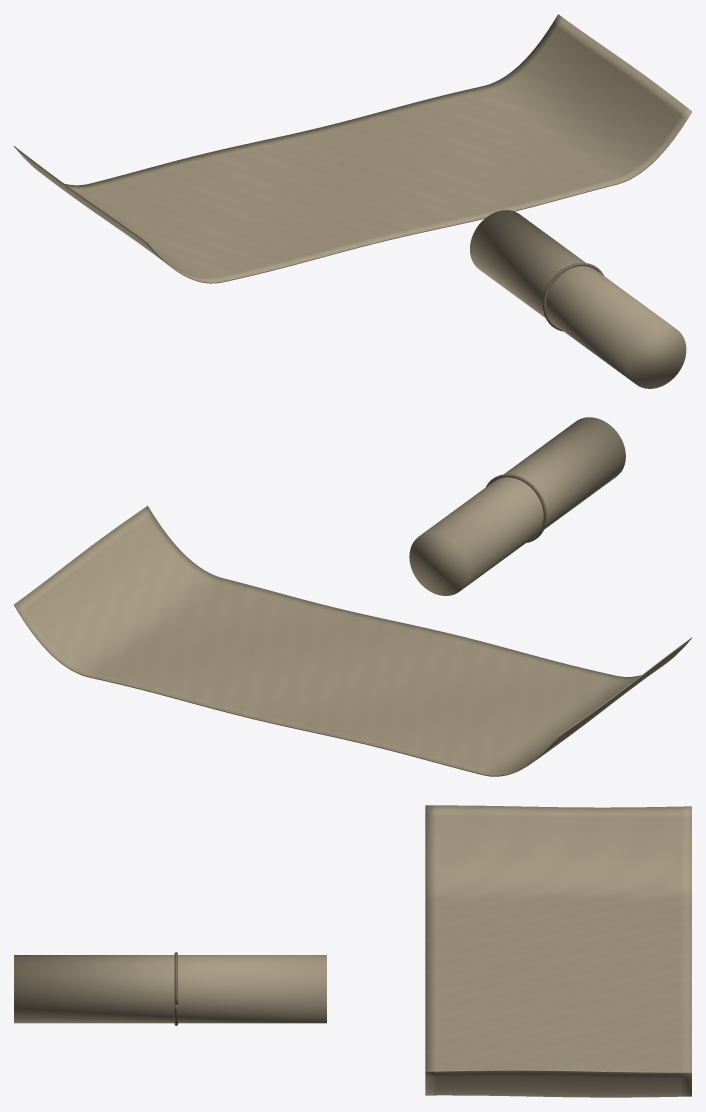
File: return-scroll.glb
3 views of the same model, one above another, from view 1: azimuth 30°, elevation 25°; view 2: azimuth 150°, elevation 25°; view 3: azimuth 270°, elevation 25° (orthographic).
Parts seen in each view (by area): view 1: return-scroll-return-uninscribed-document; view 2: return-scroll-return-uninscribed-document; view 3: return-scroll-return-uninscribed-document.
Boxes of the visible parts, x1,y1,x2,y2 form: return-scroll-return-uninscribed-document: (14,14,691,388); return-scroll-return-uninscribed-document: (14,417,691,776); return-scroll-return-uninscribed-document: (14,805,691,1097).
Bounding box in the file's own units: 1.08 × 0.134 × 1.17.
